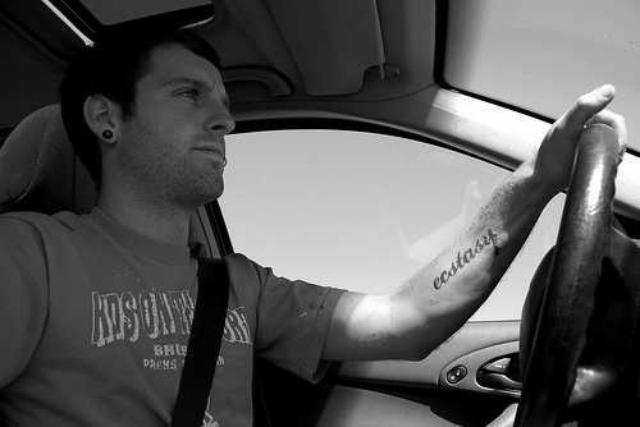SafeDriving: (167, 78, 206, 105)
Seatbelt: (166, 256, 235, 427)
